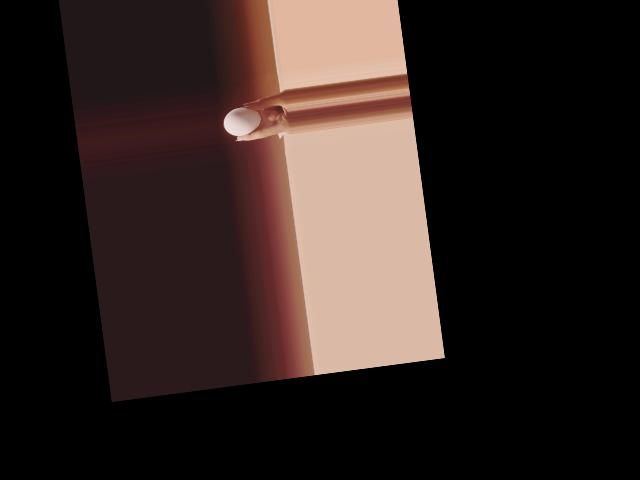egg: (222, 104, 263, 137)
